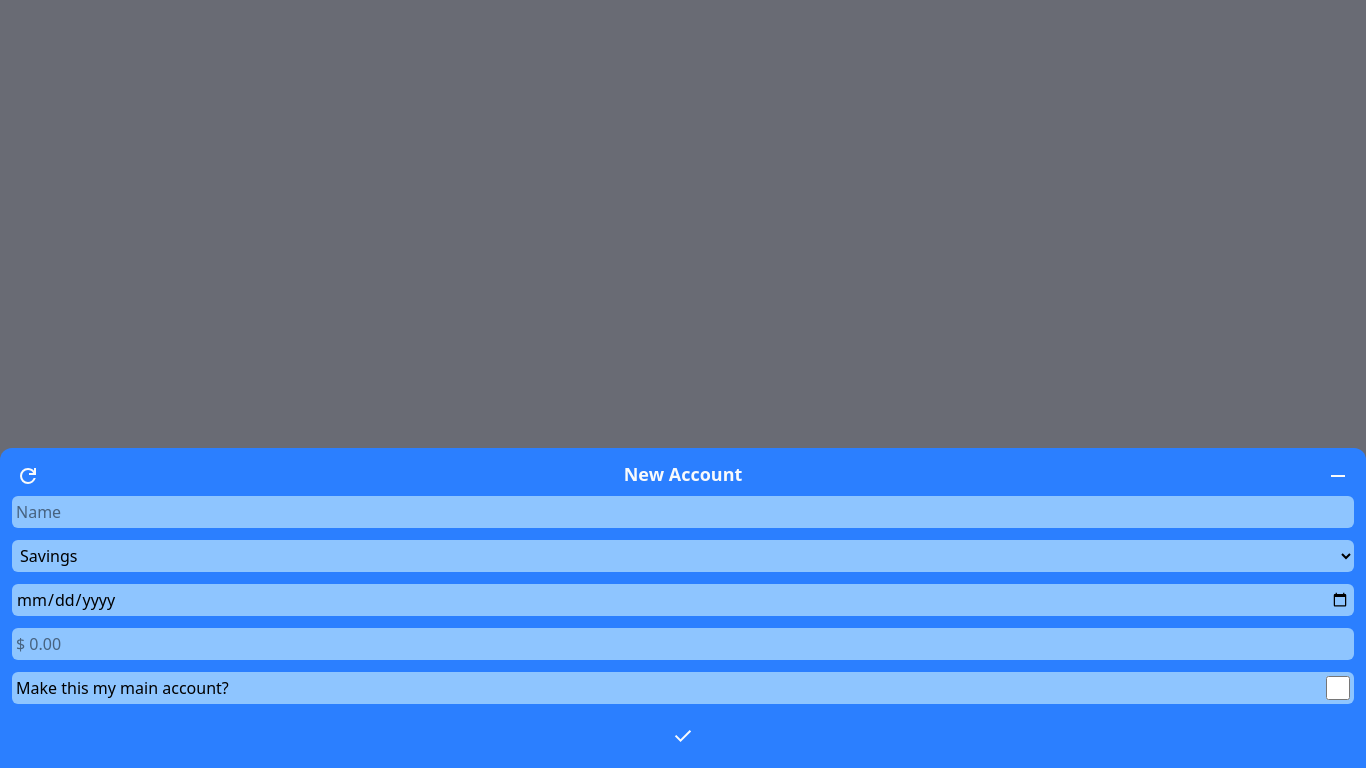
Scenario: CreateAccount › clears fields when clicking clear
Type "Vacation" into the field with test id "name-input" at (683, 512), box [12, 496, 1354, 528]
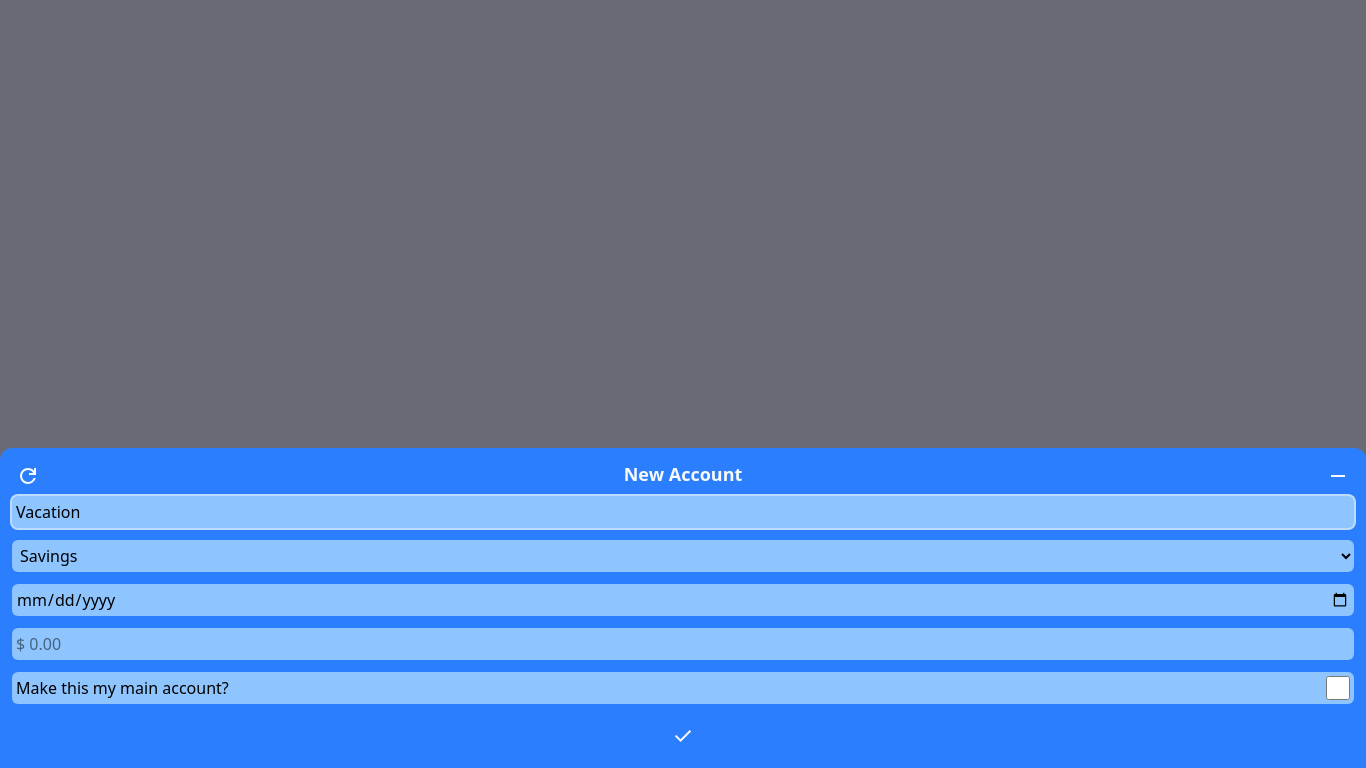
Click the button named "Clear form" at (28, 474), box [12, 460, 44, 488]
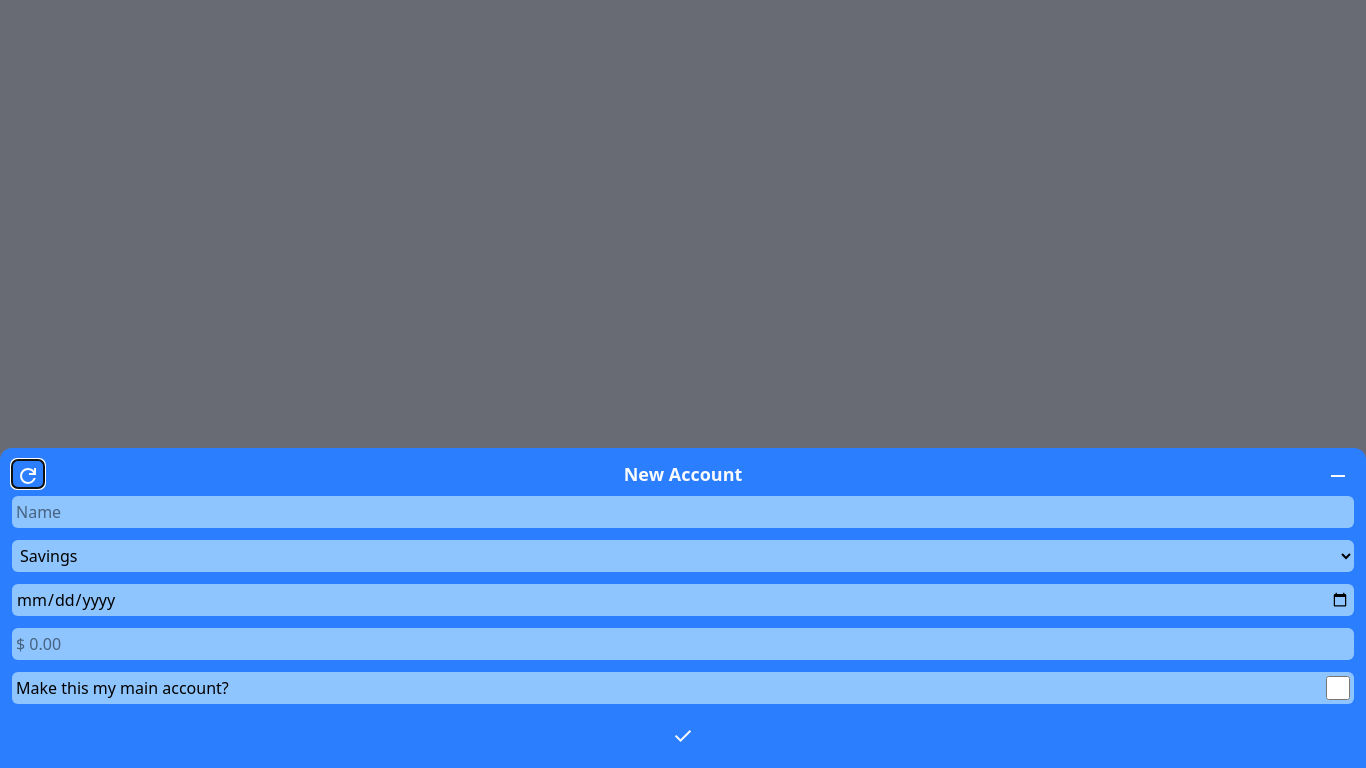
Check: the field with test id "name-input" is empty, box [12, 496, 1354, 528]
